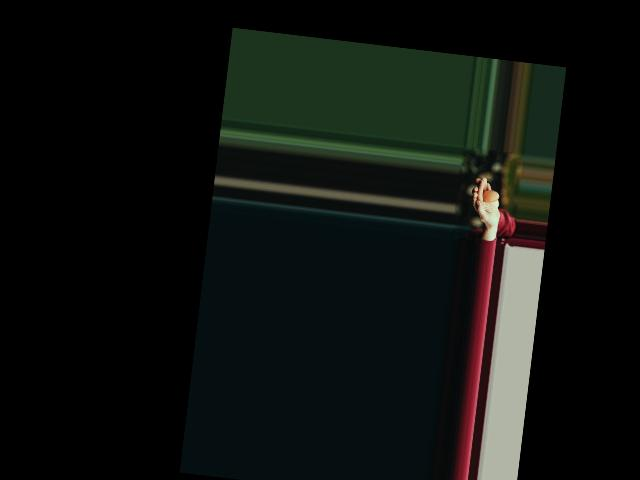egg: (482, 189, 499, 203)
